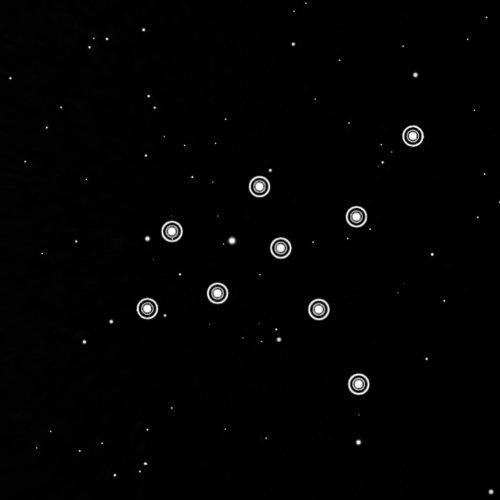cygnus: (131, 119, 428, 400)
